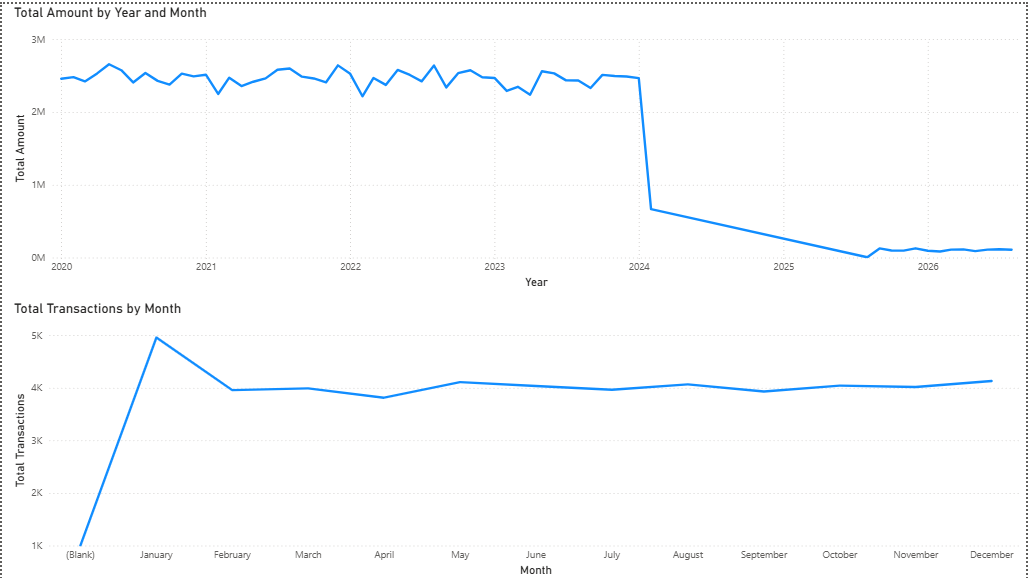

The page's visual inventory and layout, read from the dashboard file:
{"tool":"powerbi","page":{"name":"Transactions","canvas":[1280,720],"ordinal":2},"visuals":[{"type":"lineChart","fields":{"Y":["transactions.Total Amount"],"Category":["transactions.TransactionDate.Variation.Date Hierarchy.Year","transactions.TransactionDate.Variation.Date Hierarchy.Month"]},"box":[10,0,1270,360],"z":0},{"type":"lineChart","fields":{"Category":["transactions.TransactionDate.Variation.Date Hierarchy.Month"],"Y":["transactions.Total Transactions"]},"box":[10,370,1270,350],"z":1}]}

Visuals, with their boxes in screenshot pixels (x1, y1, x2, y2), scaled from the page's 1280x720 canvas onto the 1029x578 screenshot:
lineChart - transactions.Total Amount x transactions.TransactionDate.Variation.Date Hierarchy.Year: <bbox>8, 0, 1028, 289</bbox>
lineChart - transactions.TransactionDate.Variation.Date Hierarchy.Month x transactions.Total Transactions: <bbox>8, 297, 1028, 577</bbox>
